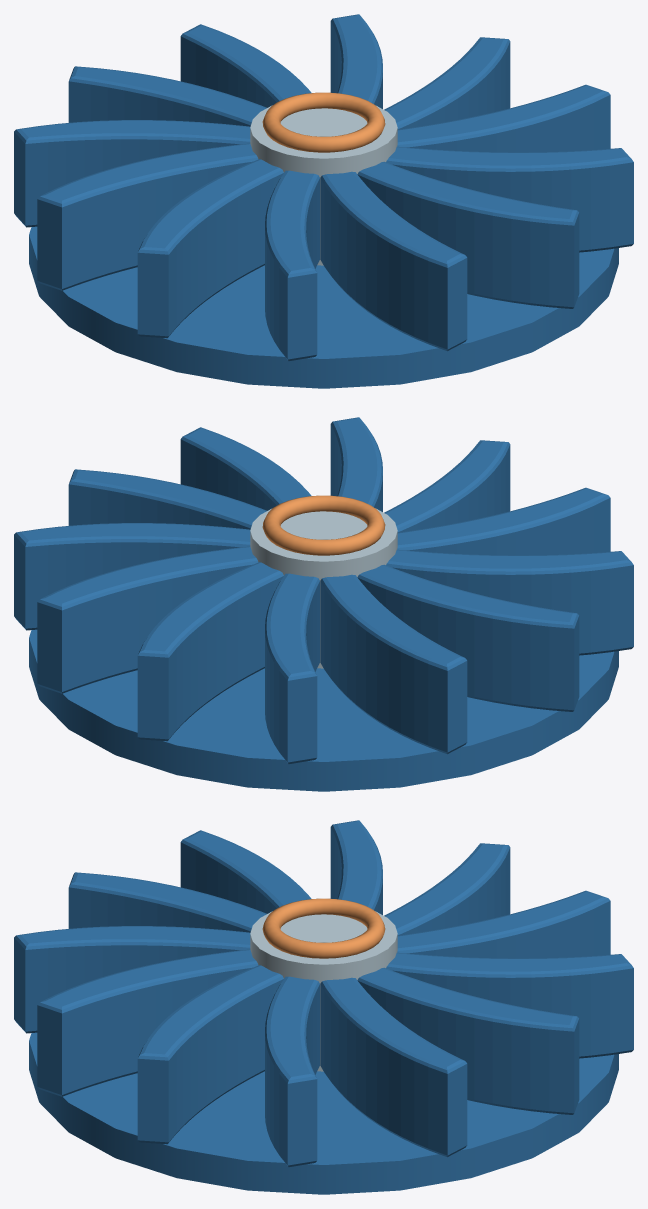
The model's file is impeller.glb.
3 renders of one model, top to bottom at view 1: azimuth 30°, elevation 25°; view 2: azimuth 150°, elevation 25°; view 3: azimuth 270°, elevation 25°, orthographic.
Parts seen in each view (by area): view 1: impeller; view 2: impeller; view 3: impeller.
Part boxes in pixels (box(x1,y1,x2,y2)): impeller: box(14, 14, 633, 388); impeller: box(14, 417, 633, 791); impeller: box(14, 820, 633, 1194).
Bounding box in the file's own units: 3.78 × 1.01 × 3.78.
